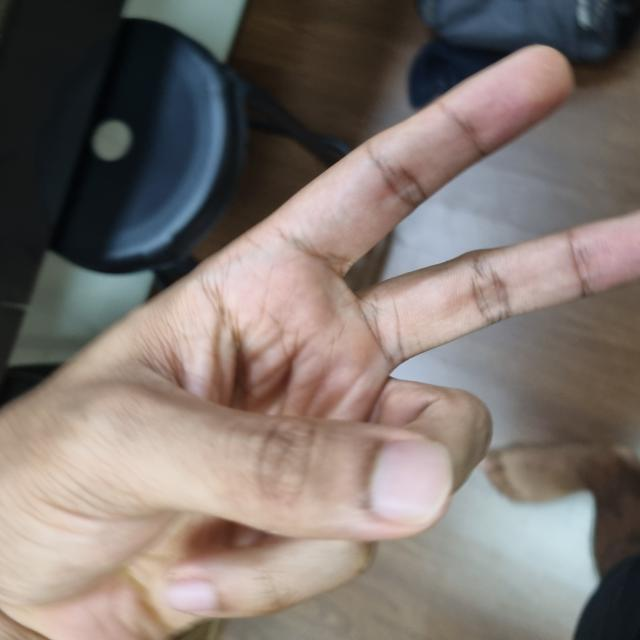Scissors: (31, 7, 589, 637)
